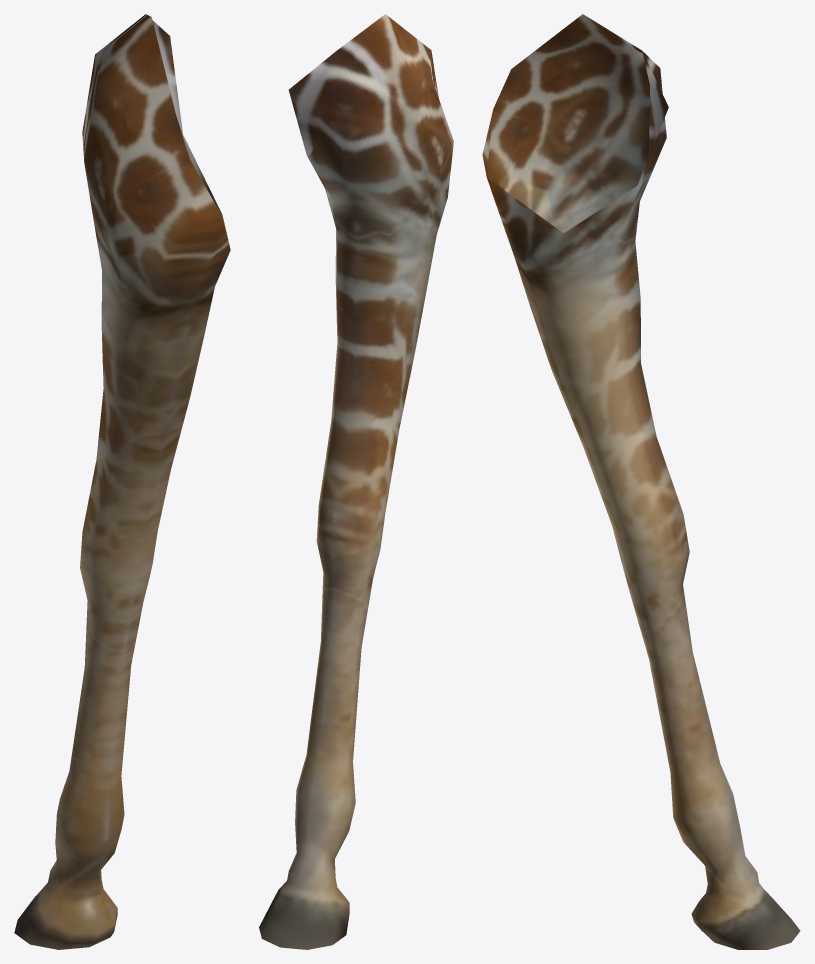
The model's file is jF_leftleg.obj.
The picture shows the model from 3 angles, left to right: view 1: azimuth 30°, elevation 25°; view 2: azimuth 150°, elevation 25°; view 3: azimuth 270°, elevation 25°; orthographic projection. The views are drawn at different scales.
Parts seen in each view (by area): view 1: 1.003; view 2: 1.003; view 3: 1.003.
Boxes of the visible parts, left/top/right/bottom form: 1.003: left=14, top=14, right=230, bottom=949; 1.003: left=259, top=14, right=453, bottom=949; 1.003: left=482, top=14, right=800, bottom=949.
Size of the model in its own units: 0.6104 by 4.69 by 1.48.
Materials: 1 (1 with a texture image).
